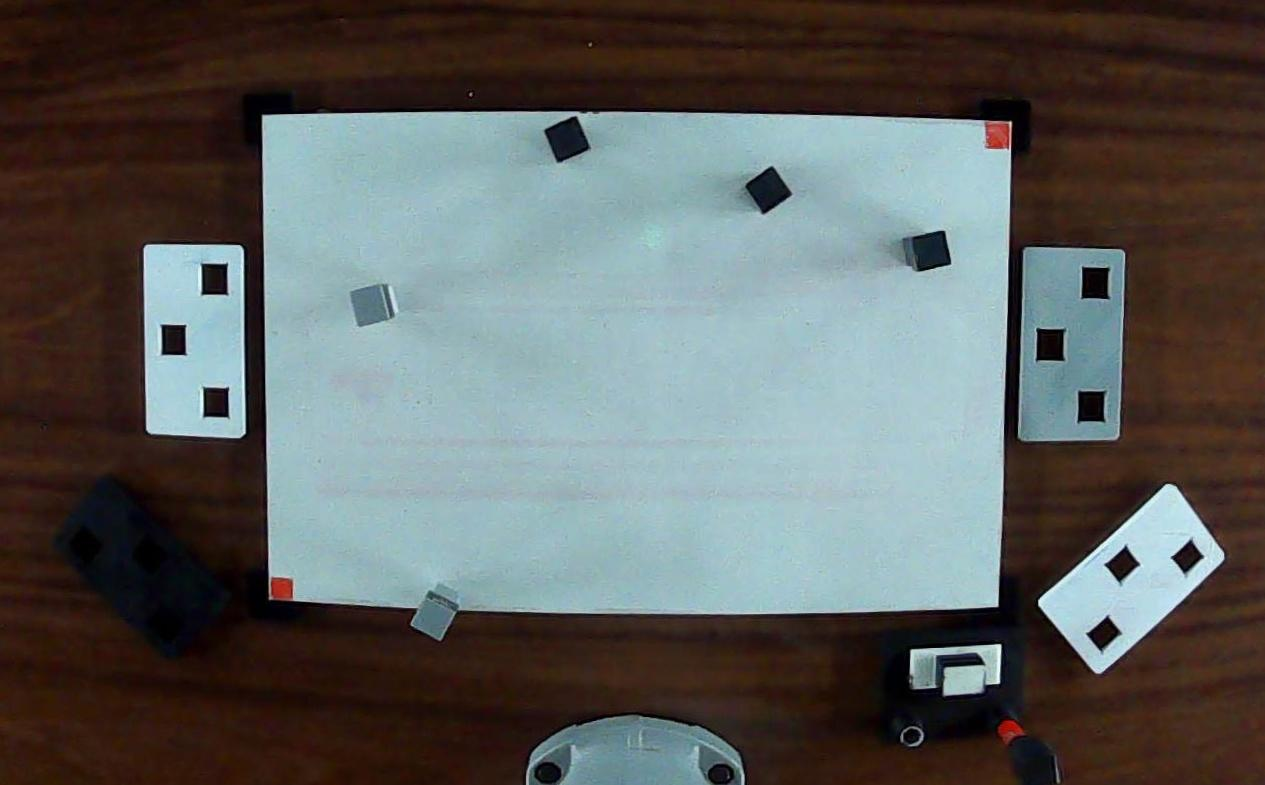pecaCinza: (407, 578, 466, 647), (347, 281, 404, 329)
pecaPreta: (741, 161, 796, 217), (899, 223, 954, 279), (541, 114, 599, 167)
